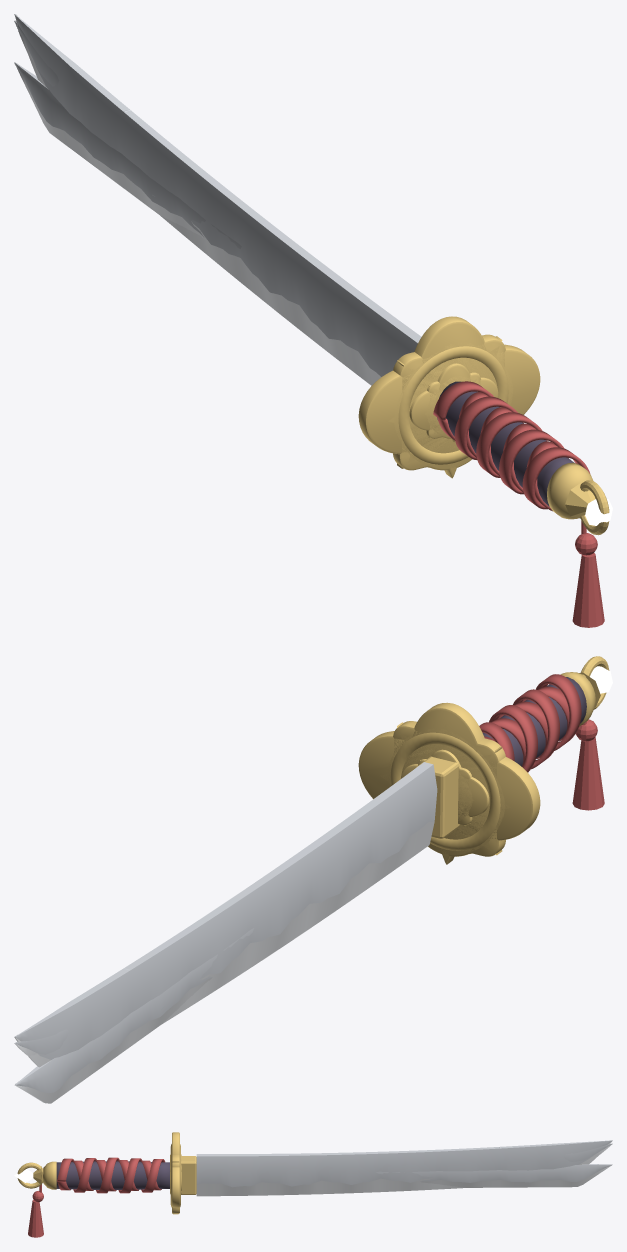
Rendered from NinjaSim_Katanas.fbx.
3 renders of one model, top to bottom at view 1: azimuth 30°, elevation 25°; view 2: azimuth 150°, elevation 25°; view 3: azimuth 270°, elevation 25°, orthographic. The views are drawn at different scales.
Parts seen in each view (by area): view 1: KatanaBlade_Wide, KatanaWrap, KatanaGuard_Wings, KatanaBlade_Straight, KatanaEdge_Wide, KatanaGuard_Crescent, KatanaGuard_Ring, KatanaGrip, KatanaTassel, KatanaGuard_Flower, KatanaGuard_Square, KatanaEdge_Straight (+2 smaller); view 2: KatanaBlade_Wide, KatanaGuard_Wings, KatanaEdge_Wide, KatanaWrap, KatanaBlade_Straight, KatanaGuard_Crescent, KatanaGuard_Ring, KatanaTassel, KatanaEdge_Straight, KatanaCollar, KatanaGuard_Square, KatanaGuard_Flower (+4 smaller); view 3: KatanaBlade_Wide, KatanaEdge_Wide, KatanaWrap, KatanaBlade_Straight, KatanaGrip, KatanaEdge_Straight, KatanaCollar, KatanaTassel, KatanaGuard_Wings, KatanaPommel_Cap, KatanaBlade_Standard, KatanaPommel_Ring (+3 smaller).
Boxes of the visible parts, x1,y1,x2,y2 form: KatanaBlade_Wide: (14,14,421,376); KatanaWrap: (433,381,590,511); KatanaGuard_Wings: (358,344,540,454); KatanaBlade_Straight: (14,62,241,248); KatanaEdge_Wide: (14,14,380,385); KatanaGuard_Crescent: (409,316,496,464); KatanaGuard_Ring: (398,346,508,464); KatanaGrip: (437,381,574,506); KatanaTassel: (572,521,604,627); KatanaGuard_Flower: (394,343,512,470); KatanaGuard_Square: (393,334,505,470); KatanaEdge_Straight: (14,62,203,238); KatanaBlade_Wide: (14,762,437,1059); KatanaGuard_Wings: (358,731,540,840); KatanaEdge_Wide: (14,821,434,1067); KatanaWrap: (479,674,581,772); KatanaBlade_Straight: (15,928,253,1092); KatanaGuard_Crescent: (402,702,489,850); KatanaGuard_Ring: (390,732,500,850); KatanaTassel: (572,719,604,810); KatanaEdge_Straight: (14,977,212,1103); KatanaCollar: (416,756,459,838); KatanaGuard_Square: (393,721,505,856); KatanaGuard_Flower: (386,728,504,856); KatanaBlade_Wide: (196,1140,612,1187); KatanaEdge_Wide: (196,1141,612,1196); KatanaWrap: (57,1157,165,1193); KatanaBlade_Straight: (376,1164,612,1182); KatanaGrip: (56,1161,169,1189); KatanaEdge_Straight: (420,1165,611,1187); KatanaCollar: (181,1156,196,1194); KatanaTassel: (28,1184,43,1237); KatanaGuard_Wings: (170,1167,181,1207); KatanaPommel_Cap: (43,1161,56,1189); KatanaBlade_Standard: (563,1144,611,1161); KatanaPommel_Ring: (17,1162,43,1188).
Size of the model in its own units: 0.8828 by 0.96 by 5.18.
